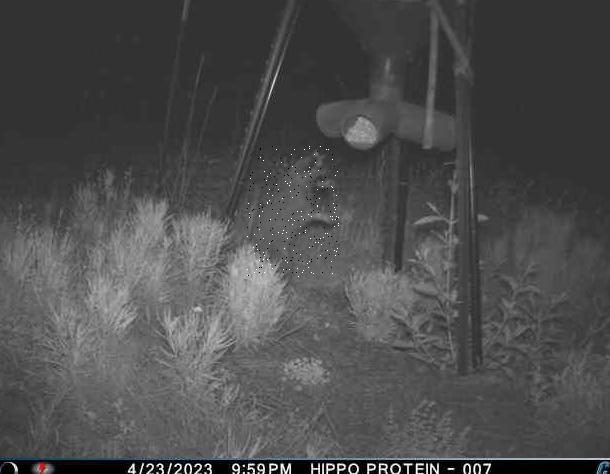Raccoon: (247, 146, 339, 277)
